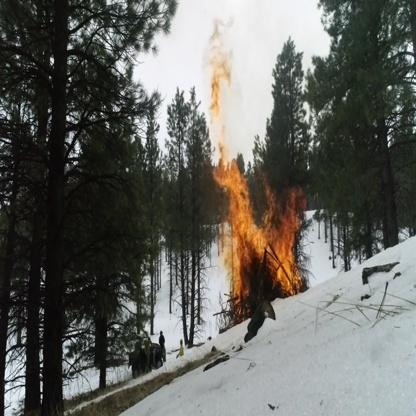Fire: (201, 15, 308, 317)
